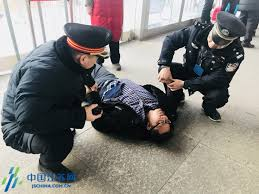fall: (78, 66, 186, 143)
